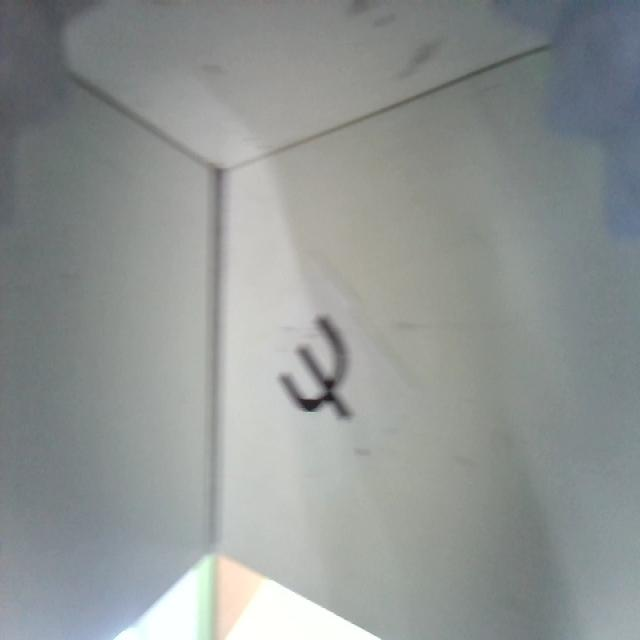nedoF: (275, 309, 357, 422)
